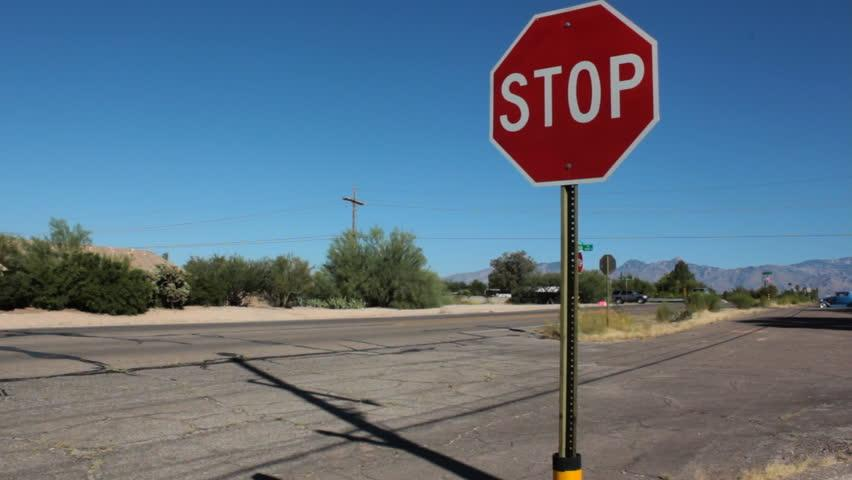Pole: (558, 188, 580, 476), (606, 275, 609, 328)
Sign: (488, 8, 661, 182), (597, 253, 618, 276)
